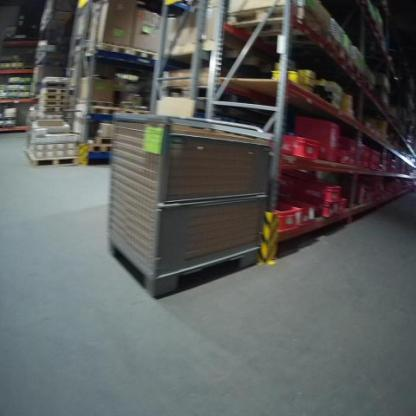pallet: (227, 2, 320, 55), (25, 151, 79, 168), (330, 36, 350, 73), (86, 43, 130, 59), (90, 103, 121, 119), (131, 46, 158, 61), (123, 107, 148, 117), (89, 144, 115, 153), (39, 92, 65, 100), (39, 100, 65, 106), (40, 86, 65, 92), (40, 106, 65, 111), (20, 89, 30, 92), (11, 60, 22, 62), (8, 90, 19, 92)
small_load_carrier: (300, 114, 341, 146), (280, 194, 320, 226), (267, 198, 299, 237), (275, 134, 319, 160), (301, 179, 344, 201), (305, 198, 340, 224), (322, 141, 341, 170), (341, 134, 356, 155), (336, 152, 351, 166), (348, 152, 360, 167), (359, 142, 368, 155), (370, 149, 379, 159), (361, 185, 370, 195), (371, 161, 379, 169)
stillage: (97, 106, 276, 301)
